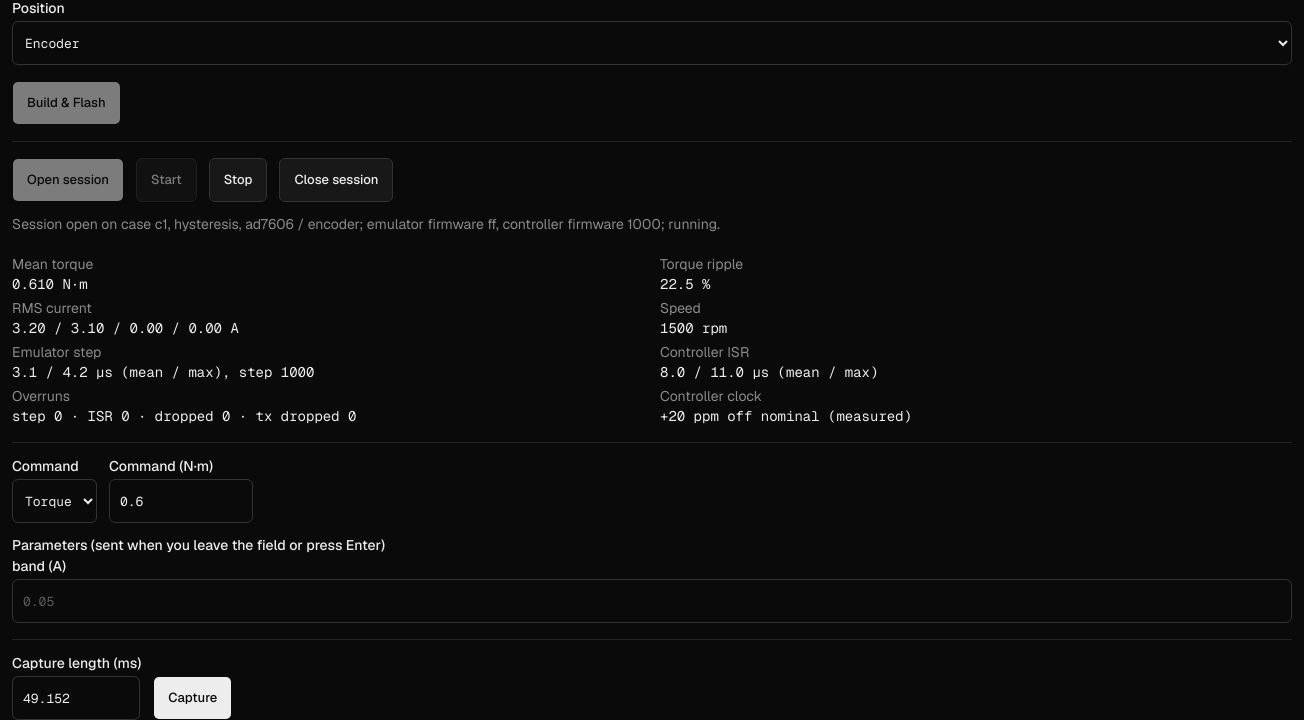
Test: HilPanel › keeps a capture whose comparison failed, shows the error and retries
The image size is (1304, 720).
(page scrolled)
Click the button "Capture" at (193, 698), box [153,676,232,719]
(page scrolled)
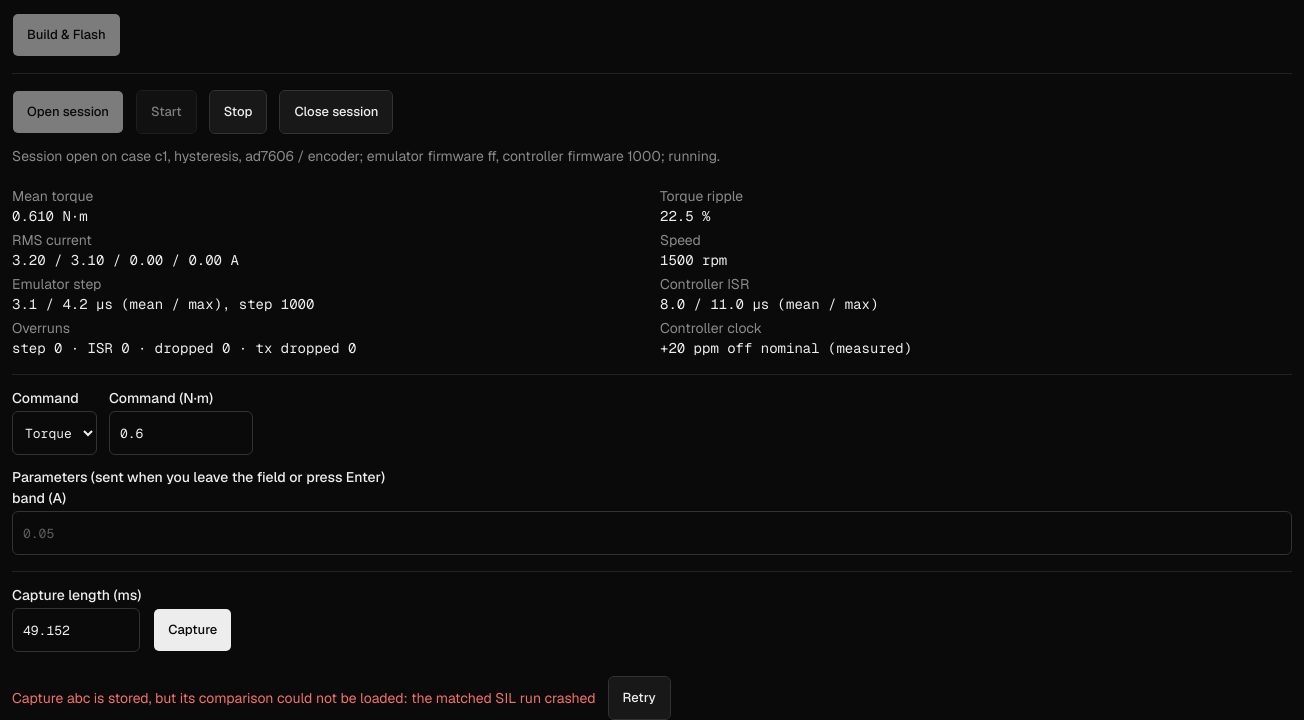
Now the 2nd message shows "Capture abc is stored", box [12,689,596,707]
Now the text "the matched SIL run crashed" is shown, box [12,689,596,707]
Click the button "Retry" at (639, 698), box [608,676,671,719]
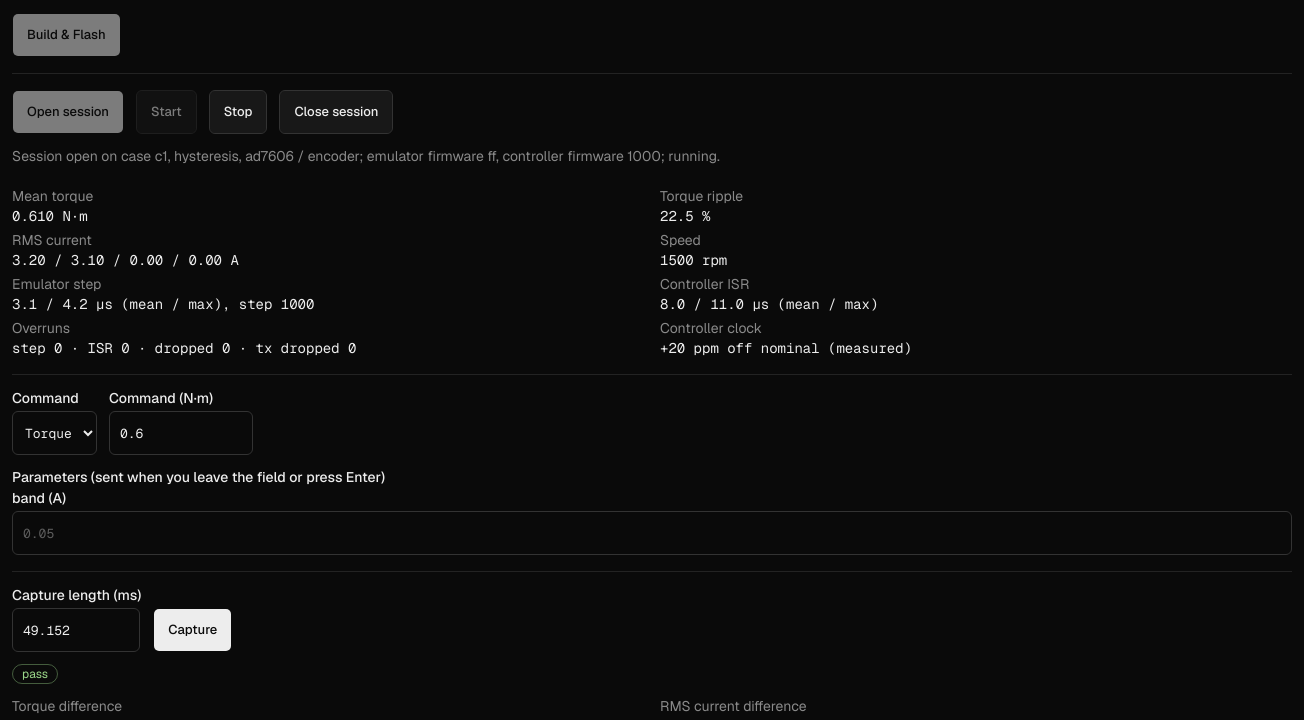
Now the icon with test id "verdict-pass" is shown, box [12,664,58,684]
